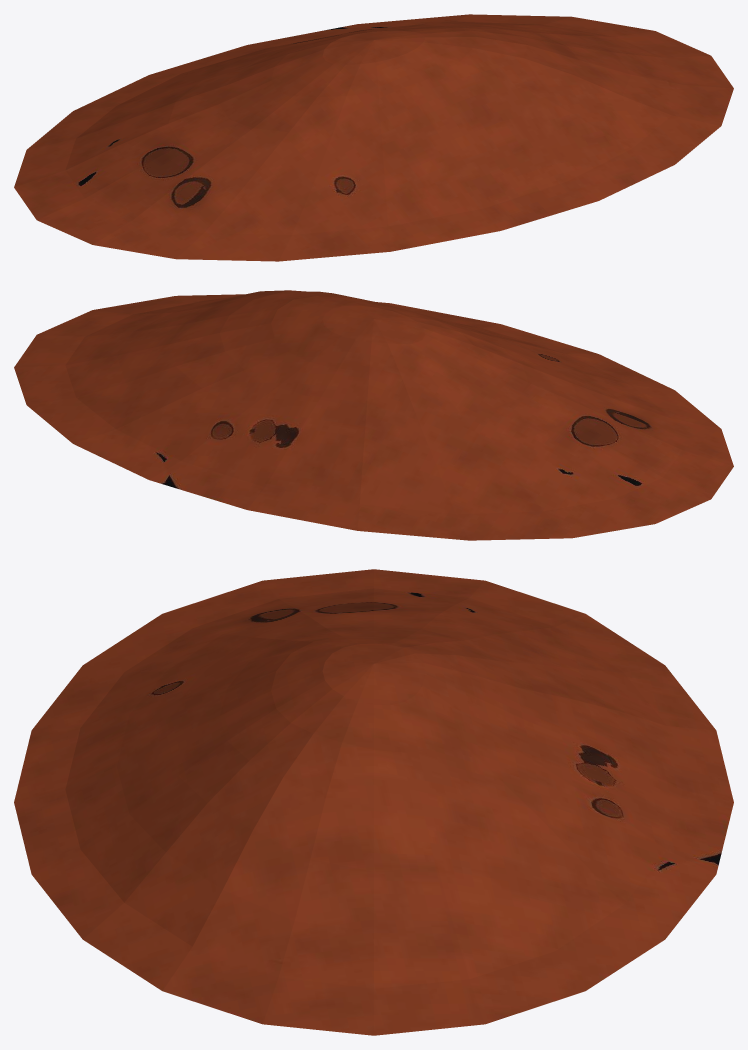
The model's file is dust_mound.glb.
3 renders of one model, top to bottom at view 1: azimuth 30°, elevation 25°; view 2: azimuth 150°, elevation 25°; view 3: azimuth 270°, elevation 25°, orthographic. The views are drawn at different scales.
Visible parts, largest first — view 1: dust_mound; view 2: dust_mound; view 3: dust_mound.
Part boxes in pixels (<box>): dust_mound: <box>14,14,733,261</box>; dust_mound: <box>14,290,733,540</box>; dust_mound: <box>14,569,733,1035</box>.
Size of the model in its own units: 4.6 by 0.6377 by 3.
Materials: 1 (1 with a texture image).
